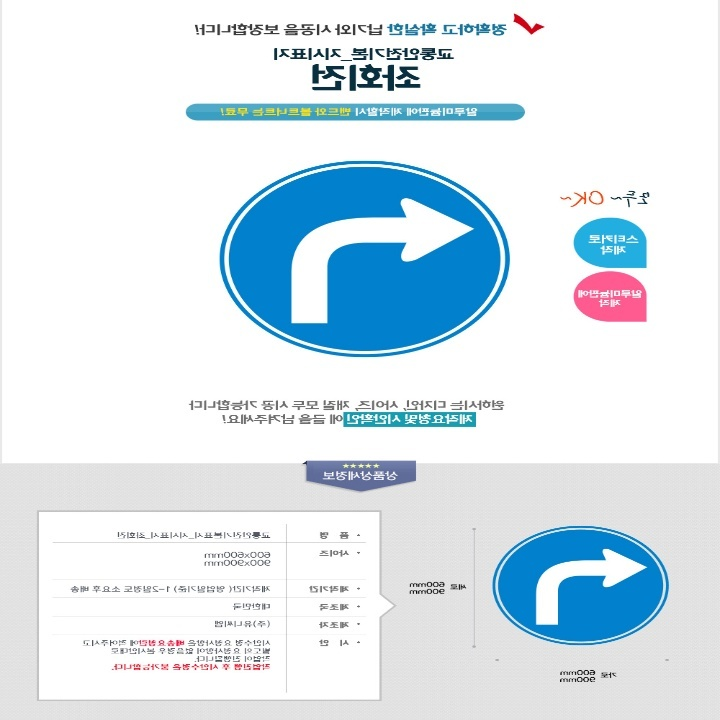right: (282, 188, 478, 329), (528, 539, 653, 633)
